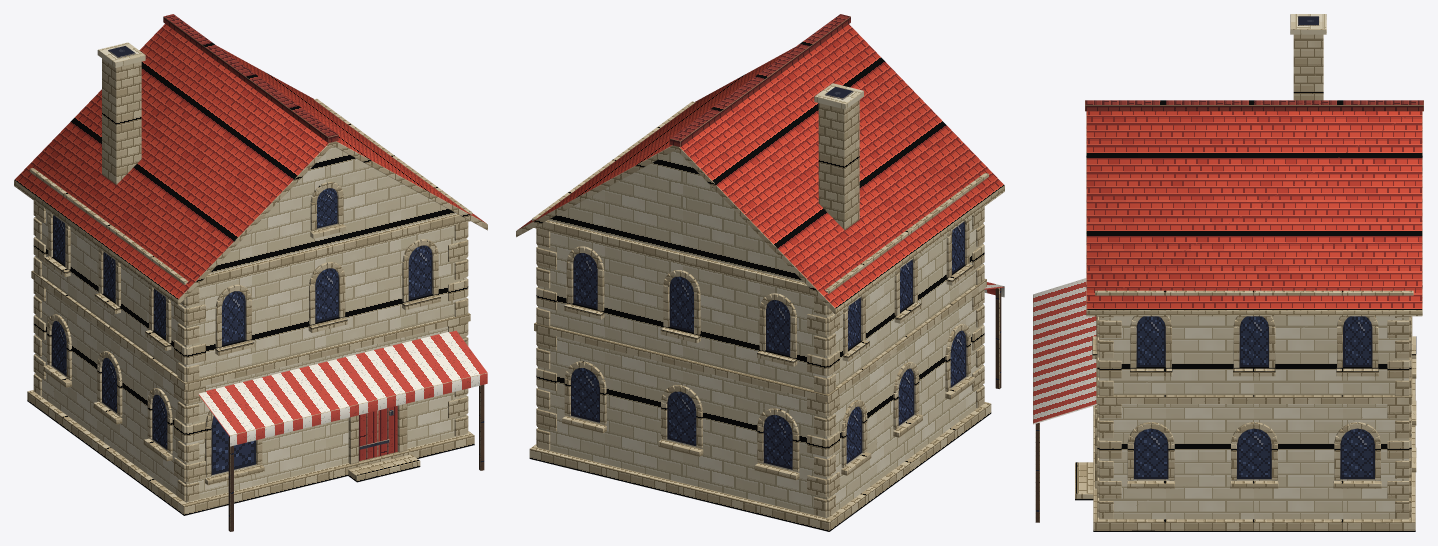
File: medieval_house_6.glb
The picture shows the model from 3 angles, left to right: view 1: azimuth 30°, elevation 25°; view 2: azimuth 150°, elevation 25°; view 3: azimuth 270°, elevation 25°; orthographic projection. The views are drawn at different scales.
Visible parts, largest first — view 1: medieval_house_7; view 2: medieval_house_7; view 3: medieval_house_7.
Boxes of the visible parts, bbox=[...] form: medieval_house_7: bbox=[14, 14, 487, 531]; medieval_house_7: bbox=[516, 14, 1004, 531]; medieval_house_7: bbox=[1033, 14, 1423, 531].
Bounding box in the file's own units: 8.3 × 9.65 × 8.83.
Materials: 11 (11 with a texture image).
